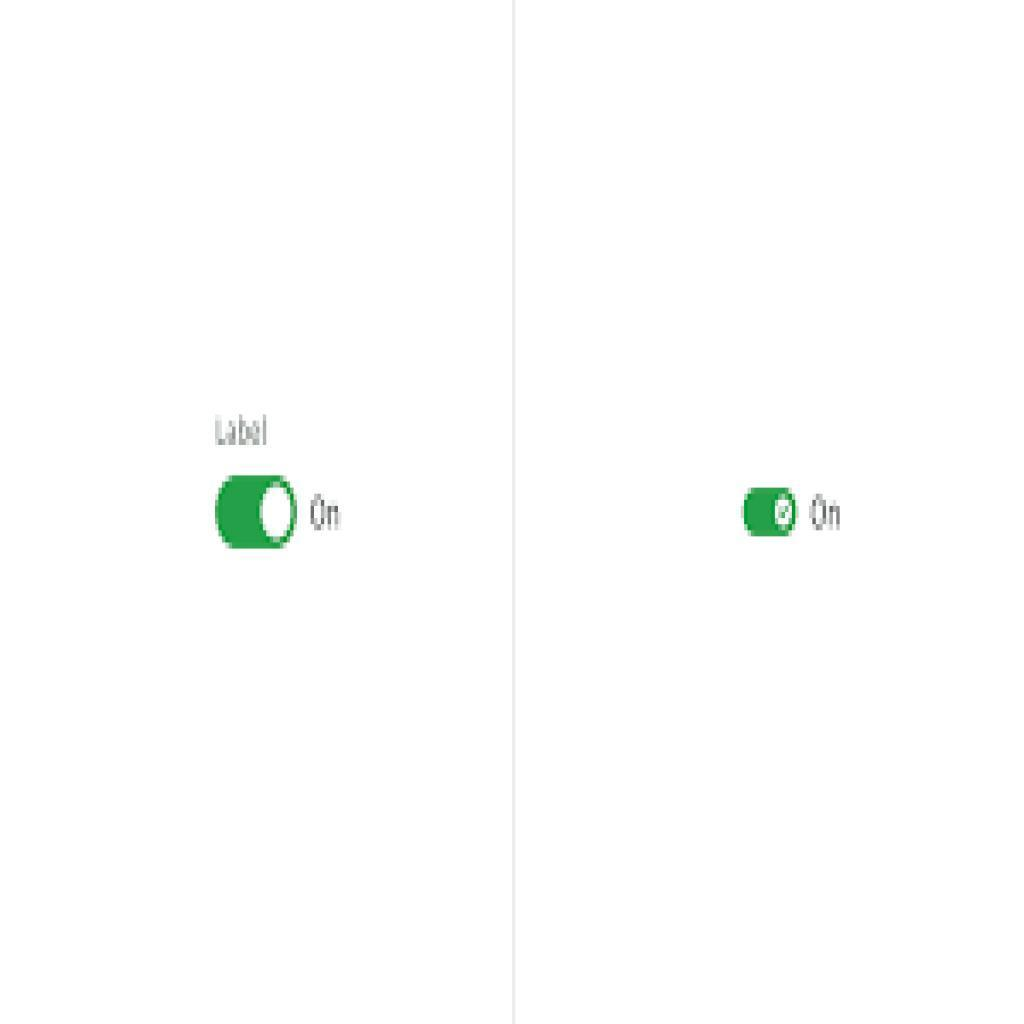switch: (216, 477, 298, 550), (742, 487, 799, 540)
